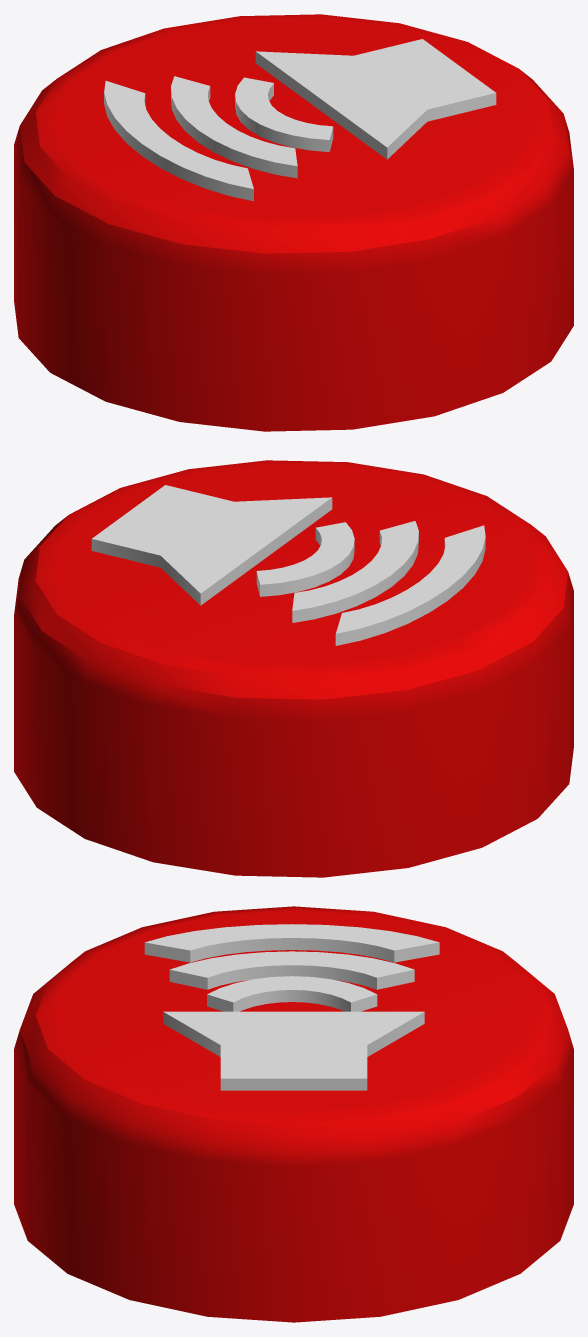
File: RepeatButton.fbx
3 renders of one model, top to bottom at view 1: azimuth 30°, elevation 25°; view 2: azimuth 150°, elevation 25°; view 3: azimuth 270°, elevation 25°, orthographic.
Parts seen in each view (by area): view 1: RepeatButton; view 2: RepeatButton; view 3: RepeatButton.
Boxes of the visible parts, box(x1,y1,x2,y2) form: RepeatButton: box(14, 14, 573, 431); RepeatButton: box(14, 460, 573, 877); RepeatButton: box(14, 906, 573, 1322).
Bounding box in the file's own units: 8.89 × 3.61 × 8.89.
